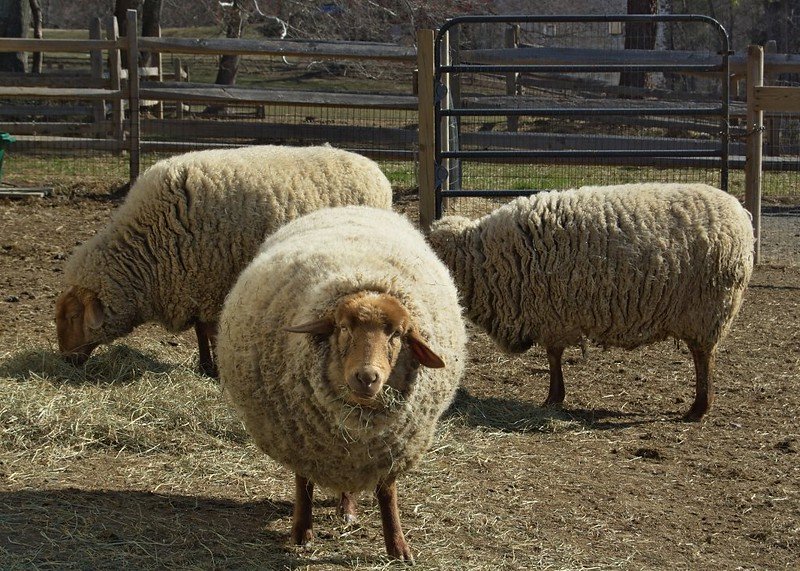sheep: (230, 201, 470, 565), (416, 172, 751, 427), (41, 139, 263, 383)
